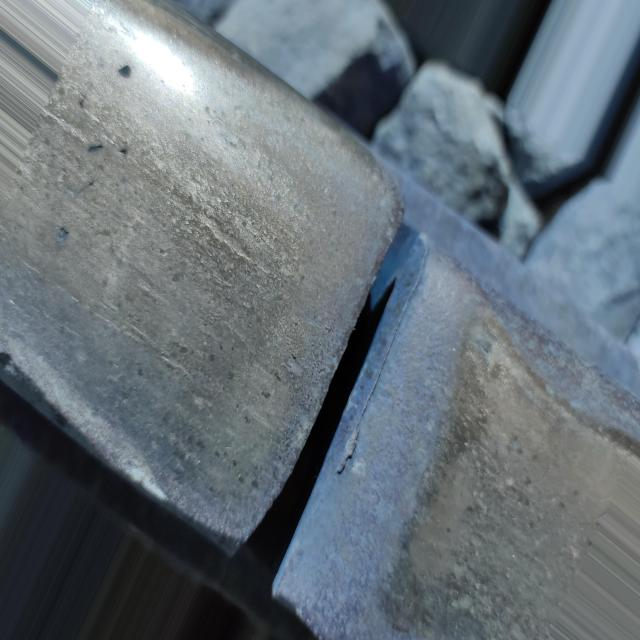crack: (187, 122, 486, 640)
